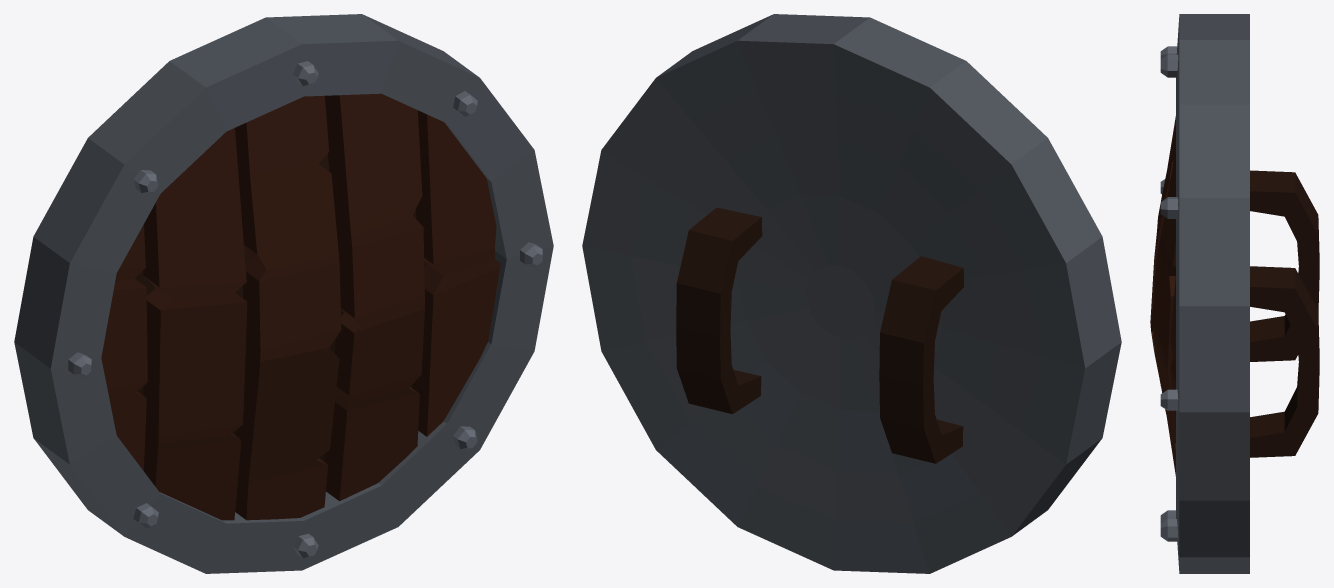
Rendered from Shield_Round.obj.
The picture shows the model from 3 angles, left to right: view 1: azimuth 30°, elevation 25°; view 2: azimuth 150°, elevation 25°; view 3: azimuth 270°, elevation 25°; orthographic projection. The views are drawn at different scales.
Visible parts, largest first — view 1: Shield_Round_Cylinder.015; view 2: Shield_Round_Cylinder.015; view 3: Shield_Round_Cylinder.015.
Part boxes in pixels (x1,y1,x2,y2): Shield_Round_Cylinder.015: (14,14,553,573); Shield_Round_Cylinder.015: (582,14,1121,573); Shield_Round_Cylinder.015: (1150,14,1319,573).
Bounding box in the file's own units: 2 × 2 × 0.6037.
